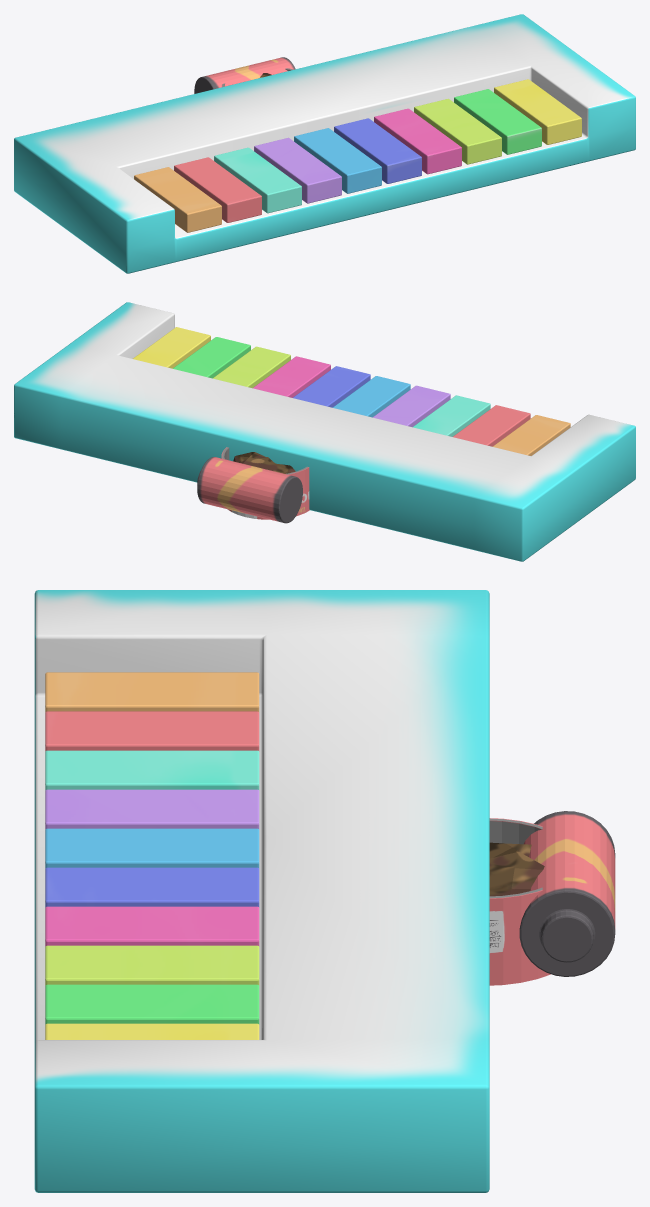
Rendered from ToyPiano3.fbx.
The picture shows the model from 3 angles, top to bottom: view 1: azimuth 30°, elevation 25°; view 2: azimuth 150°, elevation 25°; view 3: azimuth 270°, elevation 25°; orthographic projection. The views are drawn at different scales.
Visible parts, largest first — view 1: Piano, Keys, Keys.007, Keys.003, Keys.004, Keys.005, Keys.001, Keys.006, Keys.008, Keys.009, Keys.002, Neg_Battery; view 2: Piano, Neg_Battery, Keys.002, Keys.003, Keys.001, Keys.004, Keys.005, Keys.006, Keys.007, Keys.008, Keys.009, Keys (+1 smaller); view 3: Piano, Neg_Battery, Keys, Keys.001, Keys.002, Keys.003, Keys.004, Keys.005, Keys.006, Keys.007, Keys.008, CatFood (+1 smaller).
Part boxes in pixels (bbox=[...]): Piano: bbox=[14, 14, 635, 273]; Keys: bbox=[134, 167, 221, 232]; Keys.007: bbox=[414, 98, 501, 164]; Keys.003: bbox=[254, 137, 341, 203]; Keys.004: bbox=[294, 128, 381, 193]; Keys.005: bbox=[334, 118, 421, 183]; Keys.001: bbox=[174, 157, 261, 222]; Keys.006: bbox=[374, 108, 461, 174]; Keys.008: bbox=[454, 89, 541, 154]; Keys.009: bbox=[494, 79, 581, 144]; Keys.002: bbox=[214, 147, 301, 213]; Neg_Battery: bbox=[194, 57, 295, 93]; Piano: bbox=[14, 302, 635, 561]; Neg_Battery: bbox=[197, 457, 302, 523]; Keys.002: bbox=[413, 395, 490, 436]; Keys.003: bbox=[372, 385, 450, 427]; Keys.001: bbox=[453, 405, 530, 446]; Keys.004: bbox=[332, 376, 410, 417]; Keys.005: bbox=[293, 366, 370, 407]; Keys.006: bbox=[253, 356, 330, 397]; Keys.007: bbox=[213, 346, 290, 388]; Keys.008: bbox=[173, 337, 250, 378]; Keys.009: bbox=[133, 327, 210, 368]; Keys: bbox=[492, 415, 570, 455]; Piano: bbox=[34, 590, 489, 1192]; Neg_Battery: bbox=[519, 811, 615, 976]; Keys: bbox=[45, 672, 259, 712]; Keys.001: bbox=[45, 711, 259, 751]; Keys.002: bbox=[45, 750, 259, 790]; Keys.003: bbox=[45, 789, 259, 829]; Keys.004: bbox=[45, 828, 259, 868]; Keys.005: bbox=[45, 867, 259, 907]; Keys.006: bbox=[45, 906, 259, 946]; Keys.007: bbox=[45, 945, 259, 985]; Keys.008: bbox=[45, 984, 259, 1024]; CatFood: bbox=[489, 818, 550, 985].
Bounding box in the file's own units: 1228 × 125 × 605.
